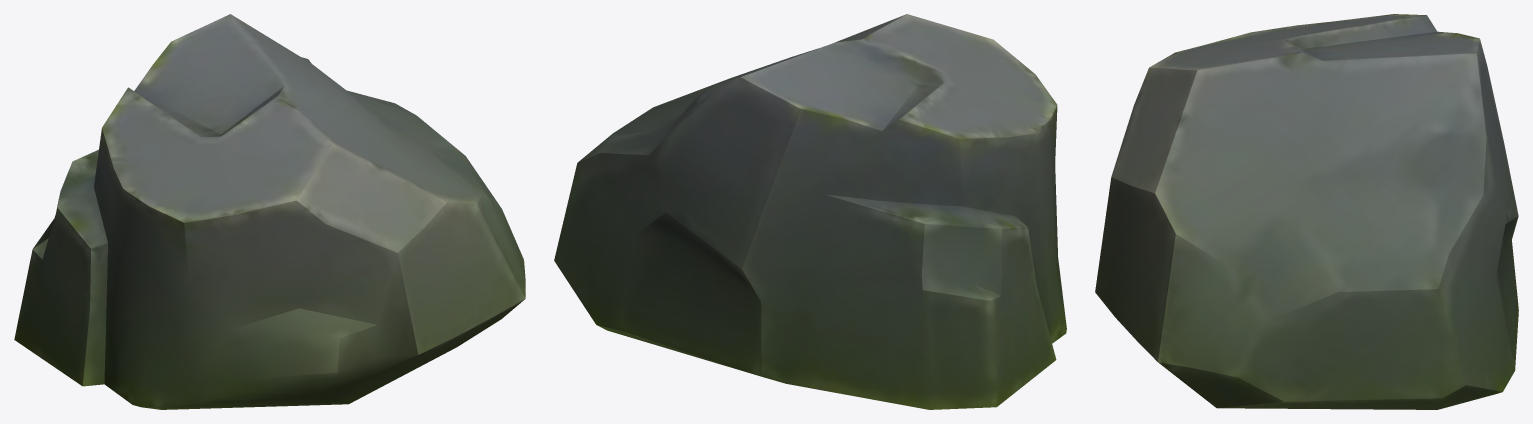
File: Rock_Medium_2.gltf
3 renders of one model, left to right at view 1: azimuth 30°, elevation 25°; view 2: azimuth 150°, elevation 25°; view 3: azimuth 270°, elevation 25°, orthographic. The views are drawn at different scales.
Parts seen in each view (by area): view 1: Rock_Medium_2; view 2: Rock_Medium_2; view 3: Rock_Medium_2.
Boxes of the visible parts, x1=… form: Rock_Medium_2: x1=14, y1=14, x2=525, y2=409; Rock_Medium_2: x1=554, y1=14, x2=1066, y2=409; Rock_Medium_2: x1=1095, y1=14, x2=1518, y2=409.
Size of the model in its own units: 3.05 by 1.9 by 2.48.
Materials: 1 (1 with a texture image).
